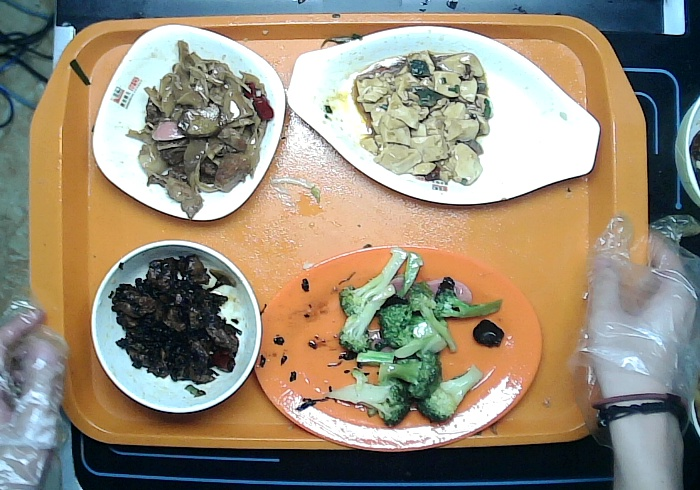NLDX-Bai_Se_Xiao_Fang_Die: (92, 24, 287, 222)
NLDX-Fan_Wan: (90, 240, 262, 413)
NLDX-Ju_Se_Pan: (253, 244, 543, 454)
NLDX-Yu_Pan: (286, 25, 601, 205)
